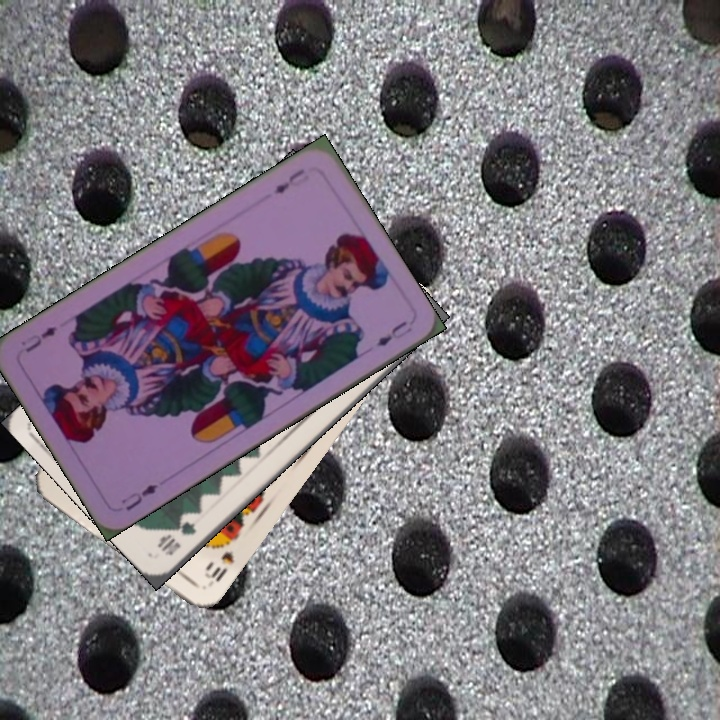EU: (117, 479, 161, 513), (269, 164, 313, 197)
G10: (153, 517, 199, 558)
S10: (200, 547, 237, 585)
